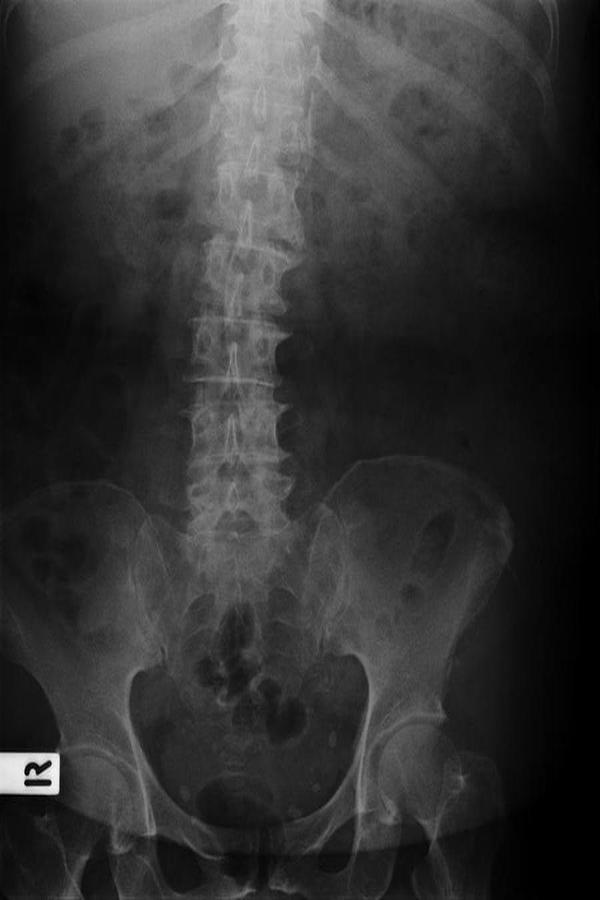lumbar scoliosis: (184, 4, 317, 570)
